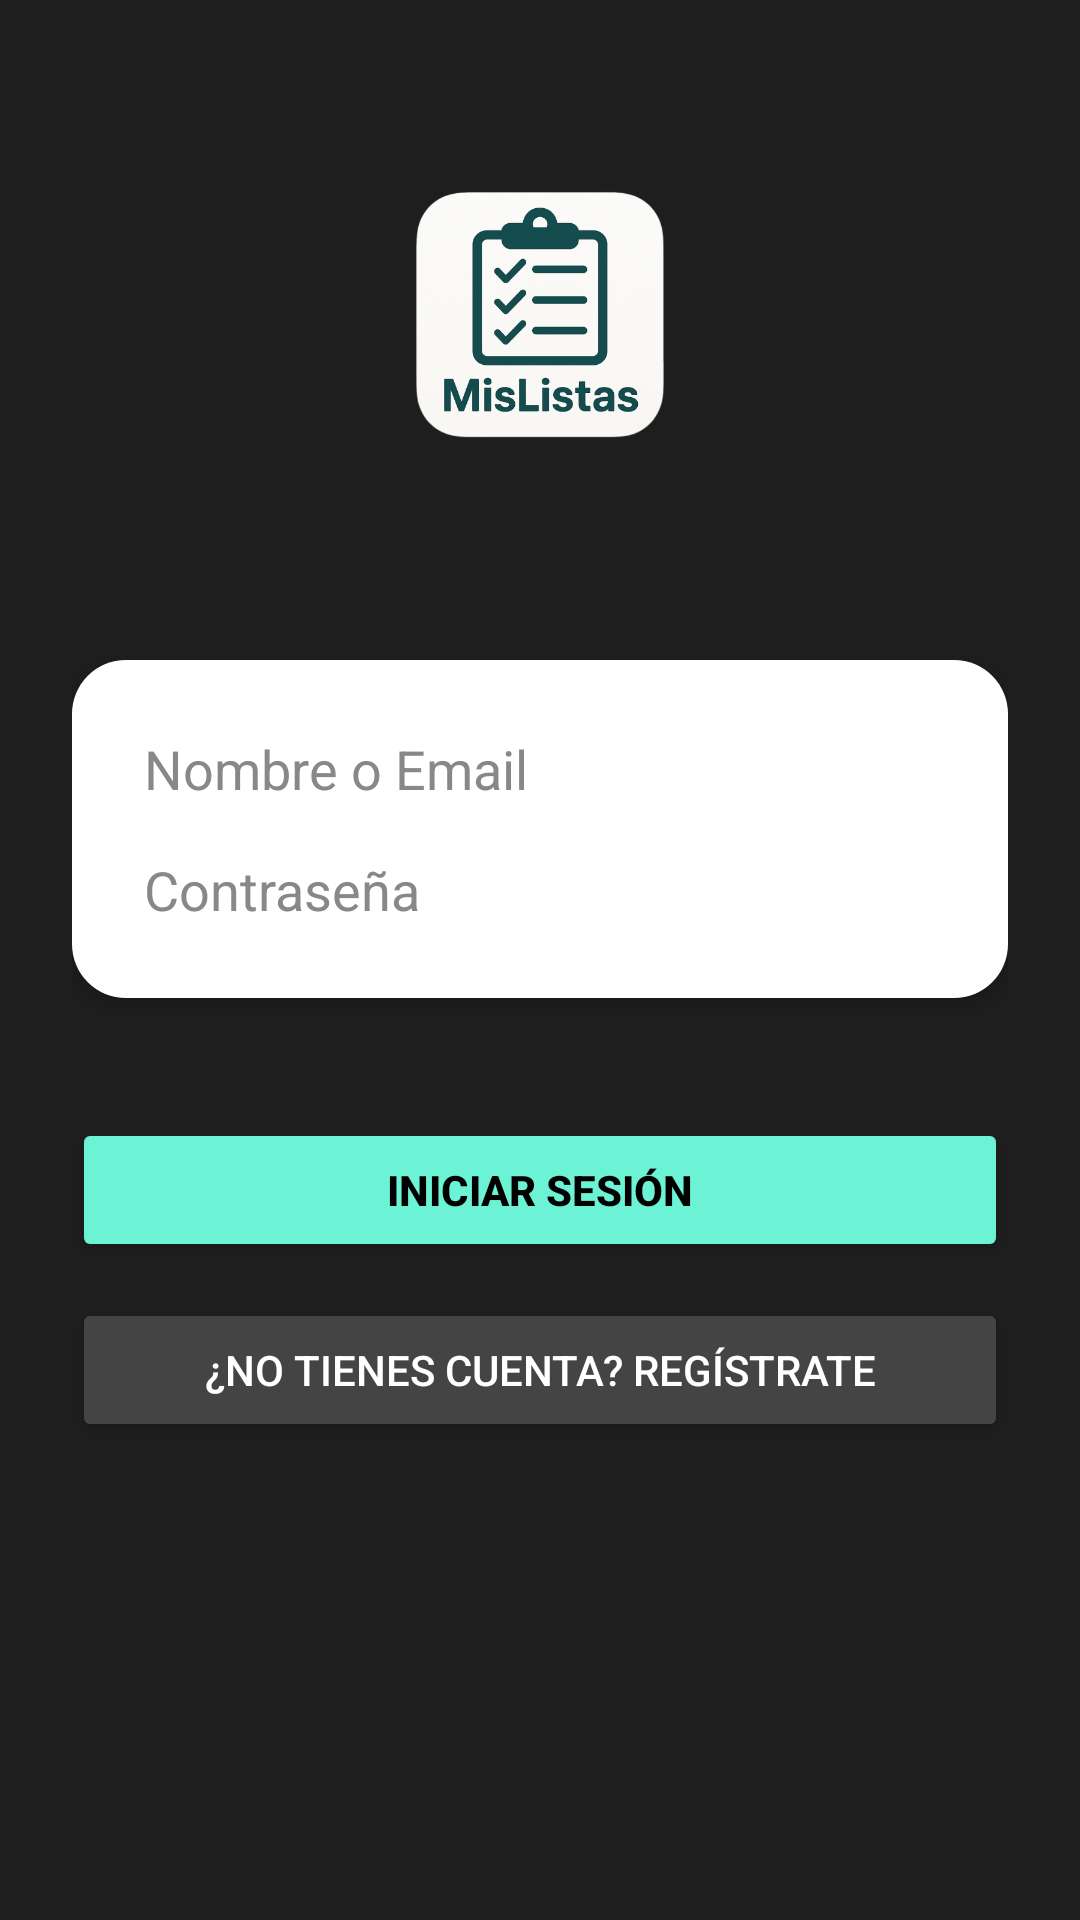

Screen size 1080px×1920px. Icon name, then its center in pixels as point (x, y):
iconapp: point (540, 314)
